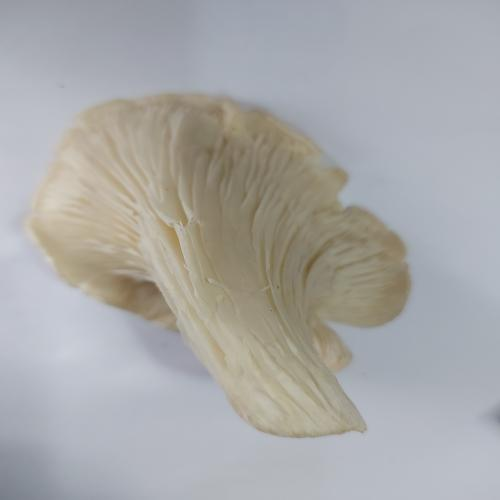Oyster Mushroom: (27, 92, 412, 439)
